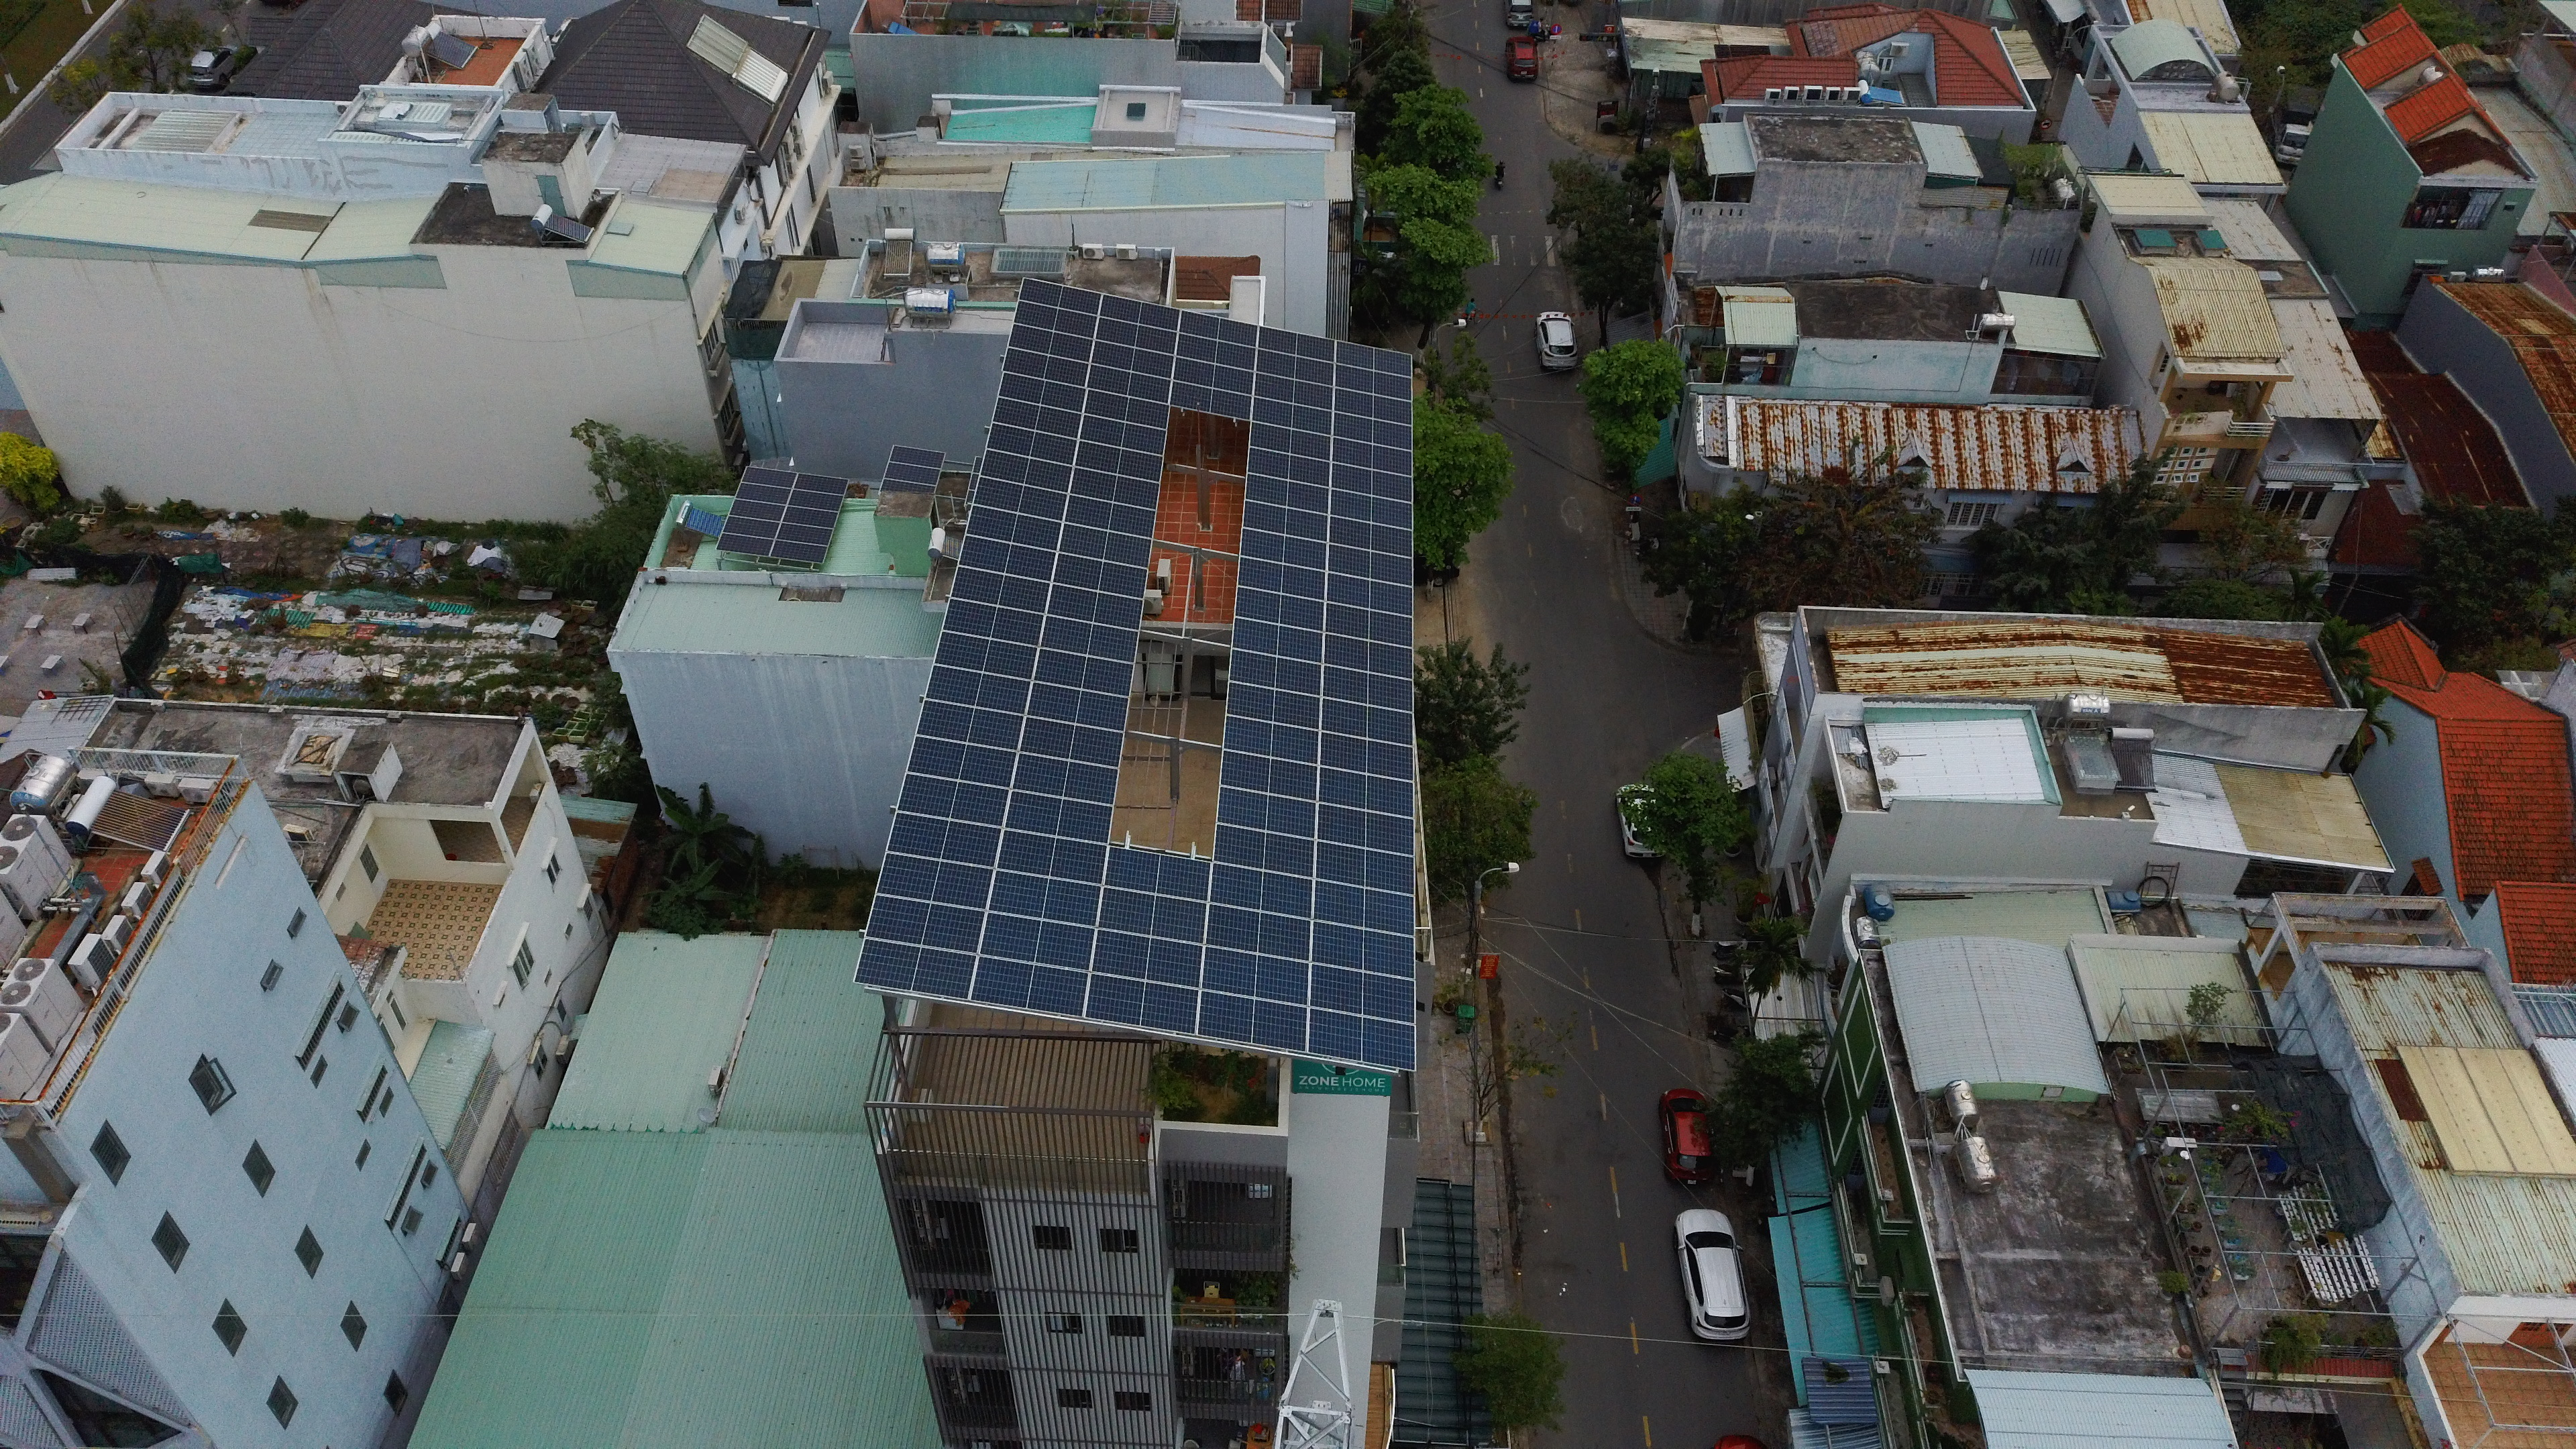solar: (851, 936, 977, 1001), (966, 954, 1088, 1019), (872, 849, 994, 911), (862, 892, 984, 954), (1093, 883, 1212, 947), (1086, 925, 1205, 989), (1081, 971, 1200, 1035), (984, 865, 1102, 927), (978, 911, 1097, 973), (993, 826, 1108, 888), (1196, 991, 1307, 1054), (1307, 961, 1415, 1026), (1099, 844, 1215, 904), (1198, 943, 1311, 1005), (1304, 1008, 1414, 1072), (883, 810, 1001, 869), (1307, 920, 1417, 982), (1201, 902, 1311, 962), (1205, 862, 1313, 922), (1000, 789, 1113, 846), (893, 771, 1010, 826), (1210, 821, 1316, 879), (1311, 878, 1414, 938), (1214, 782, 1318, 840), (1008, 750, 1118, 805), (913, 697, 1023, 750), (1024, 679, 1131, 734), (1017, 715, 1123, 770), (904, 736, 1016, 787), (1313, 840, 1415, 895), (924, 663, 1031, 715), (1315, 803, 1414, 858), (932, 630, 1040, 679), (1316, 764, 1414, 819), (1049, 550, 1150, 602), (1044, 580, 1145, 632), (1031, 646, 1132, 697), (1219, 750, 1320, 801), (954, 533, 1058, 582), (947, 564, 1051, 614), (938, 596, 1042, 646), (970, 472, 1069, 524), (964, 502, 1063, 554), (1039, 614, 1138, 665), (1224, 679, 1320, 732), (1224, 715, 1318, 768), (1318, 731, 1414, 780), (1320, 663, 1414, 713), (1320, 697, 1414, 747), (1063, 494, 1159, 541), (1056, 520, 1152, 568), (978, 446, 1072, 494), (1230, 616, 1322, 663), (1226, 648, 1318, 695), (1322, 600, 1414, 648), (985, 421, 1077, 467), (1065, 465, 1157, 511), (1238, 525, 1330, 571), (1233, 556, 1325, 602), (1235, 584, 1327, 630), (1323, 571, 1415, 617), (1322, 633, 1414, 679), (996, 370, 1088, 414), (989, 395, 1081, 439), (1072, 439, 1164, 483), (1325, 541, 1414, 587), (1079, 387, 1169, 430), (1016, 276, 1104, 318), (1014, 299, 1102, 341), (1007, 322, 1095, 364), (1095, 290, 1184, 333), (1077, 412, 1166, 455), (1168, 356, 1256, 398), (1166, 379, 1254, 421), (1247, 419, 1336, 462), (1246, 444, 1334, 487), (1242, 474, 1330, 517), (1238, 499, 1327, 541), (1001, 347, 1090, 387), (1090, 317, 1178, 357), (1086, 340, 1175, 380), (1085, 364, 1173, 405), (1173, 331, 1261, 372), (1330, 363, 1415, 403), (1327, 488, 1412, 529), (1254, 326, 1338, 366), (1330, 410, 1414, 451), (1329, 435, 1412, 476), (1327, 462, 1410, 502), (1327, 517, 1410, 557), (1254, 347, 1336, 387), (1251, 370, 1332, 410), (1251, 396, 1332, 437), (1177, 310, 1261, 349), (1330, 386, 1415, 425), (1334, 340, 1414, 380), (715, 529, 775, 559), (881, 460, 941, 488), (771, 520, 833, 547), (768, 538, 830, 564), (720, 513, 780, 540), (734, 479, 793, 506), (727, 497, 786, 524), (886, 444, 948, 469), (740, 465, 798, 490), (791, 471, 849, 495), (784, 487, 842, 511), (778, 504, 837, 529), (878, 478, 936, 494), (970, 455, 984, 476), (962, 488, 975, 508), (968, 472, 978, 490)
